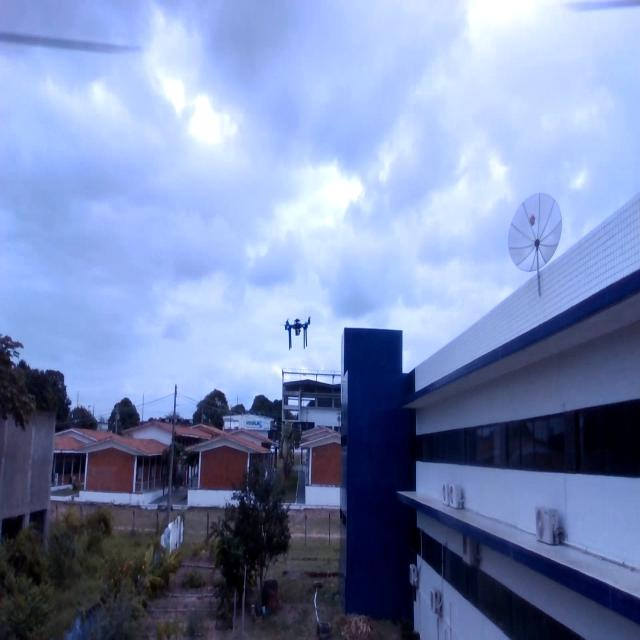-uav-: (277, 306, 318, 358)
